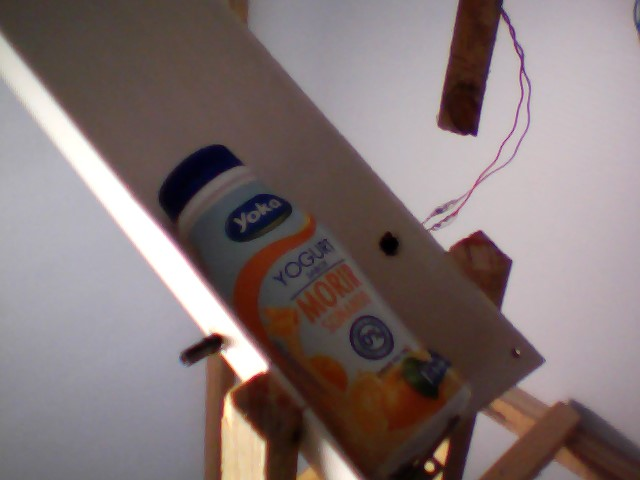plastico: (151, 143, 475, 479)
